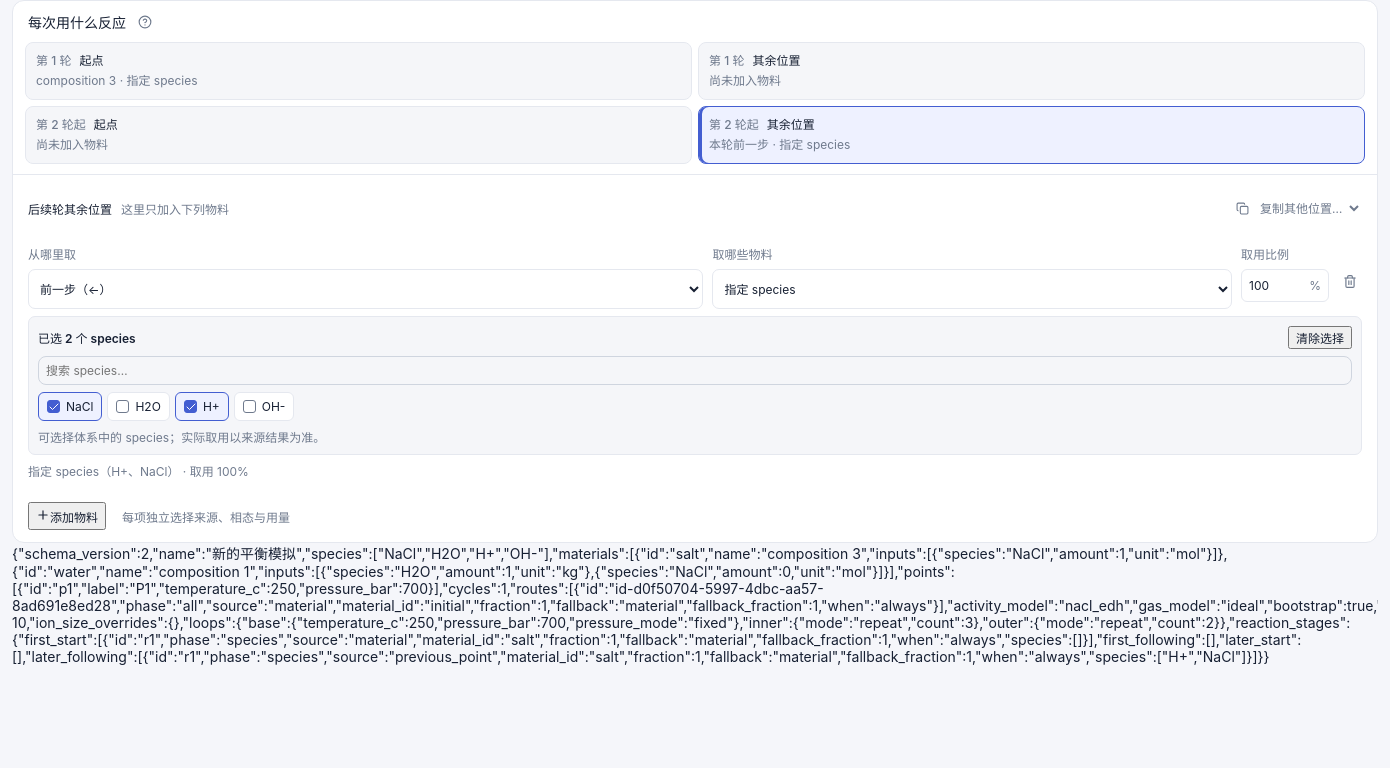
Test case: offers all system species for result sources and clears incompatible choices only after reviewing the source change
Expected: the number of checkboxes is 4, [38, 392, 102, 421]; [108, 392, 170, 421]; [175, 392, 229, 421]; [234, 392, 294, 421]
Select "composition 3" in the dropdown named "物料 1 来源" at (366, 289), box [28, 269, 703, 309]
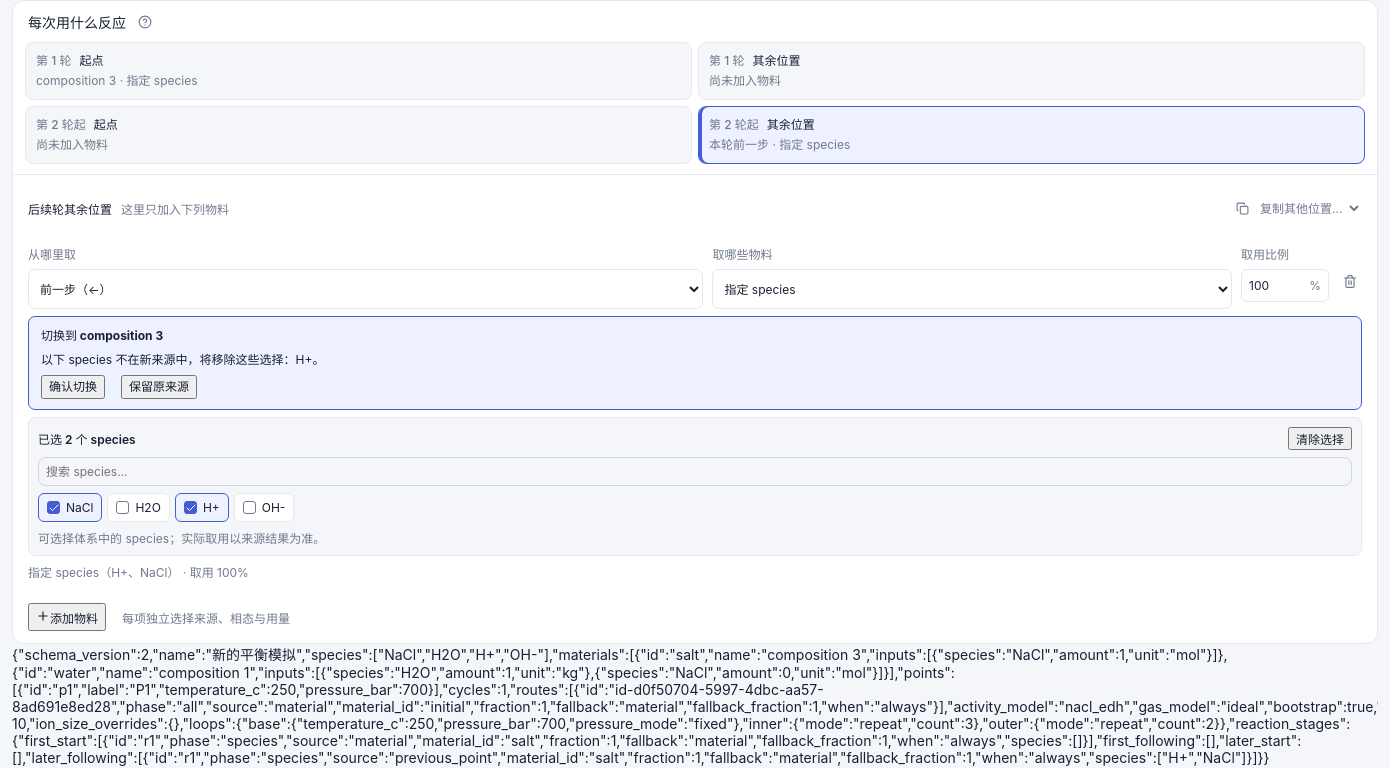
Expected: the text "以下 species 不在新来源中，将移除这些选择：H+。" is shown, [41, 352, 324, 367]
Click the button "保留原来源".
click(159, 387)  # box [121, 375, 197, 399]
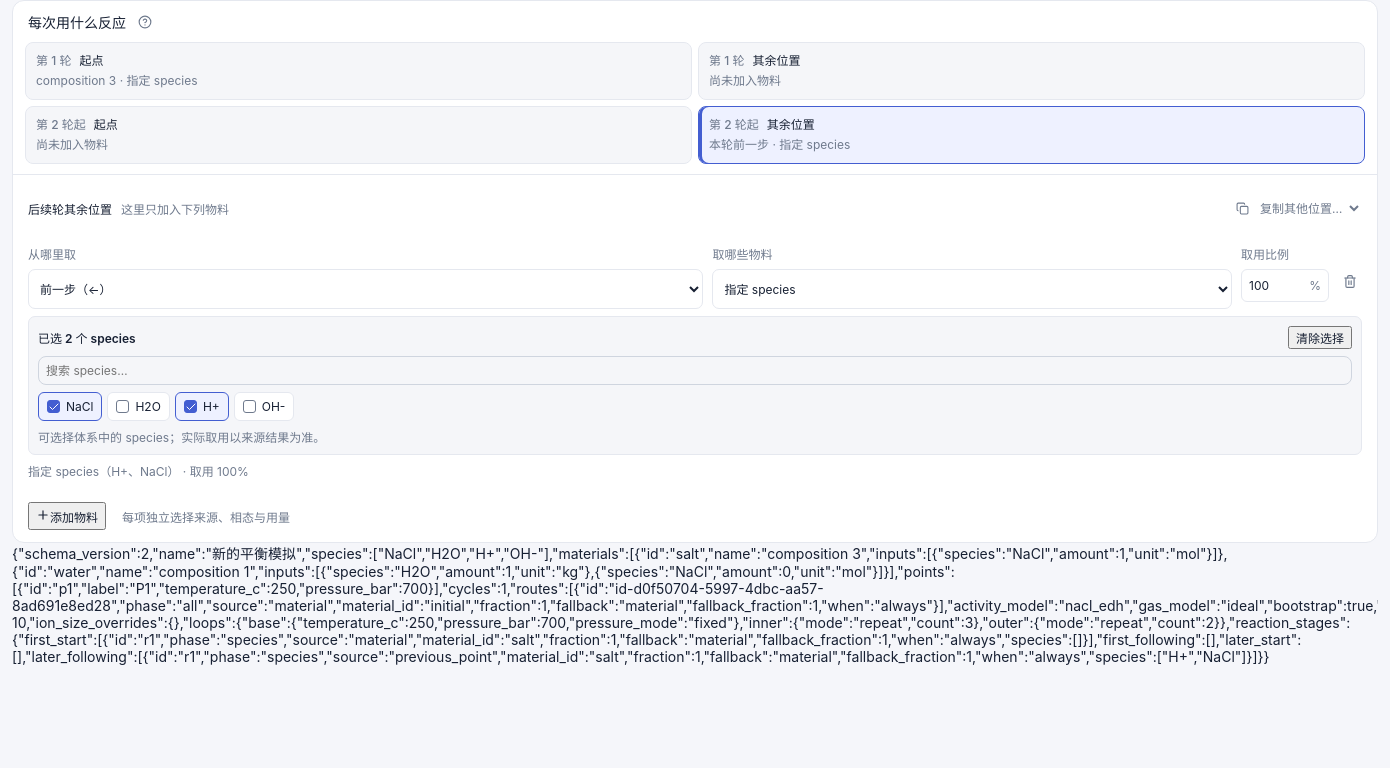
Select "composition 3" in the dropdown named "物料 1 来源" at (366, 289), box [28, 269, 703, 309]
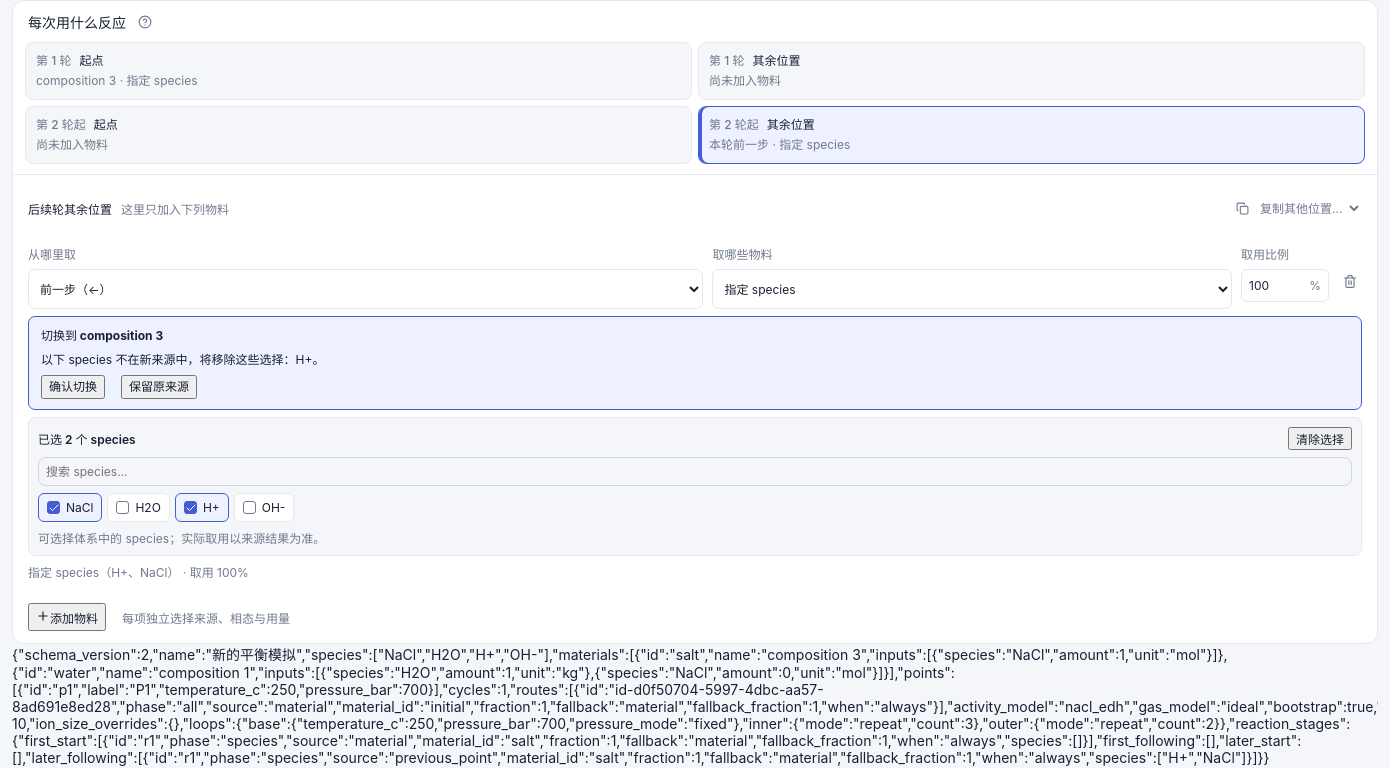
Click the button "确认切换".
click(73, 387)  # box [41, 375, 105, 399]
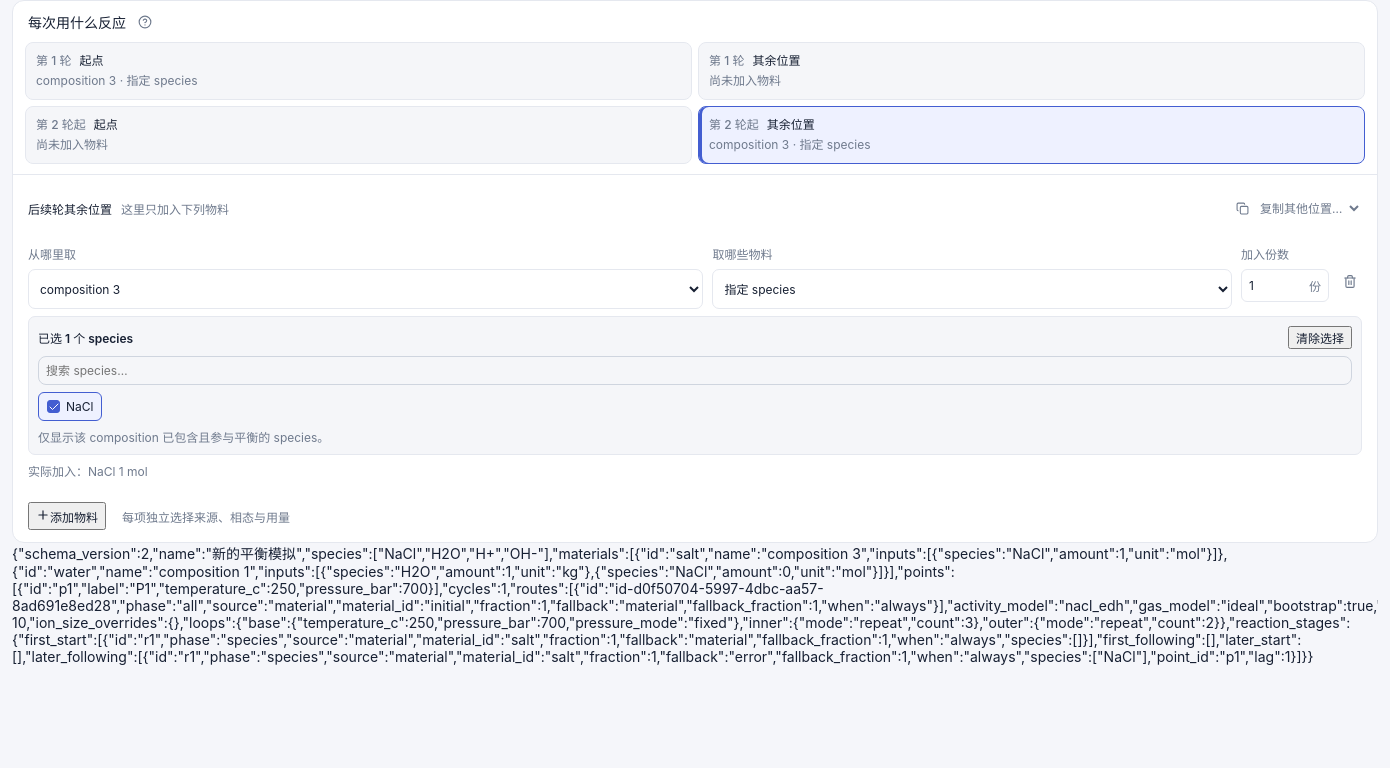
Expected: the checkboxes read "NaCl", in this order, [38, 392, 102, 421]
